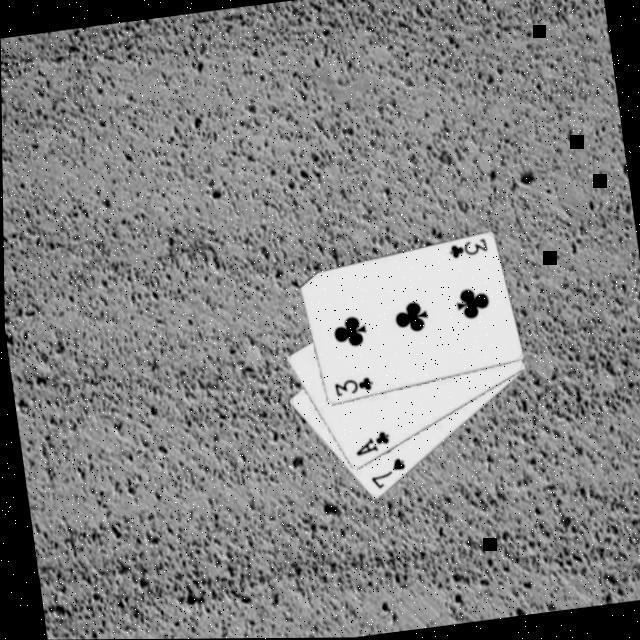3C: (326, 371, 372, 398), (441, 233, 487, 260)
7S: (362, 452, 407, 492)
AC: (346, 425, 389, 458)
